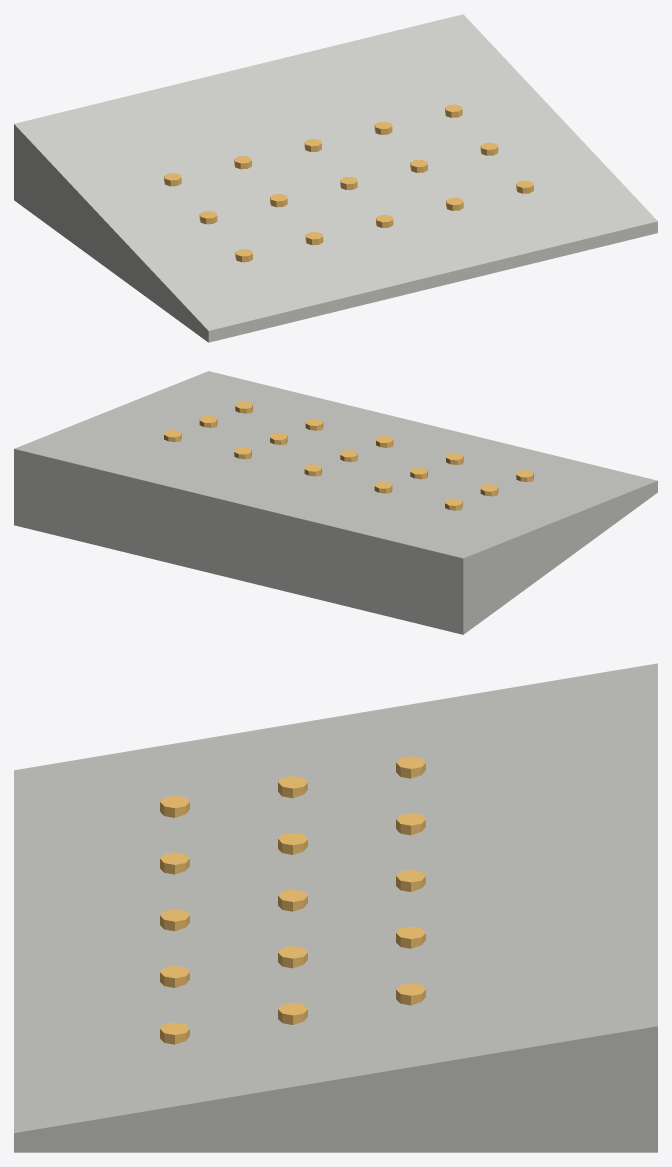
File: curb_ramp.glb
3 views of the same model, one above another, from view 1: azimuth 30°, elevation 25°; view 2: azimuth 150°, elevation 25°; view 3: azimuth 270°, elevation 25° (orthographic). The views are drawn at different scales.
Parts seen in each view (by area): view 1: curb_ramp__Ramp; view 2: curb_ramp__Ramp; view 3: curb_ramp__Ramp.
Boxes of the visible parts, x1,y1,x2,y2 form: curb_ramp__Ramp: (14, 14, 657, 342); curb_ramp__Ramp: (14, 371, 657, 634); curb_ramp__Ramp: (14, 663, 657, 1152).
Size of the model in its own units: 0.32 by 0.052 by 0.24.
